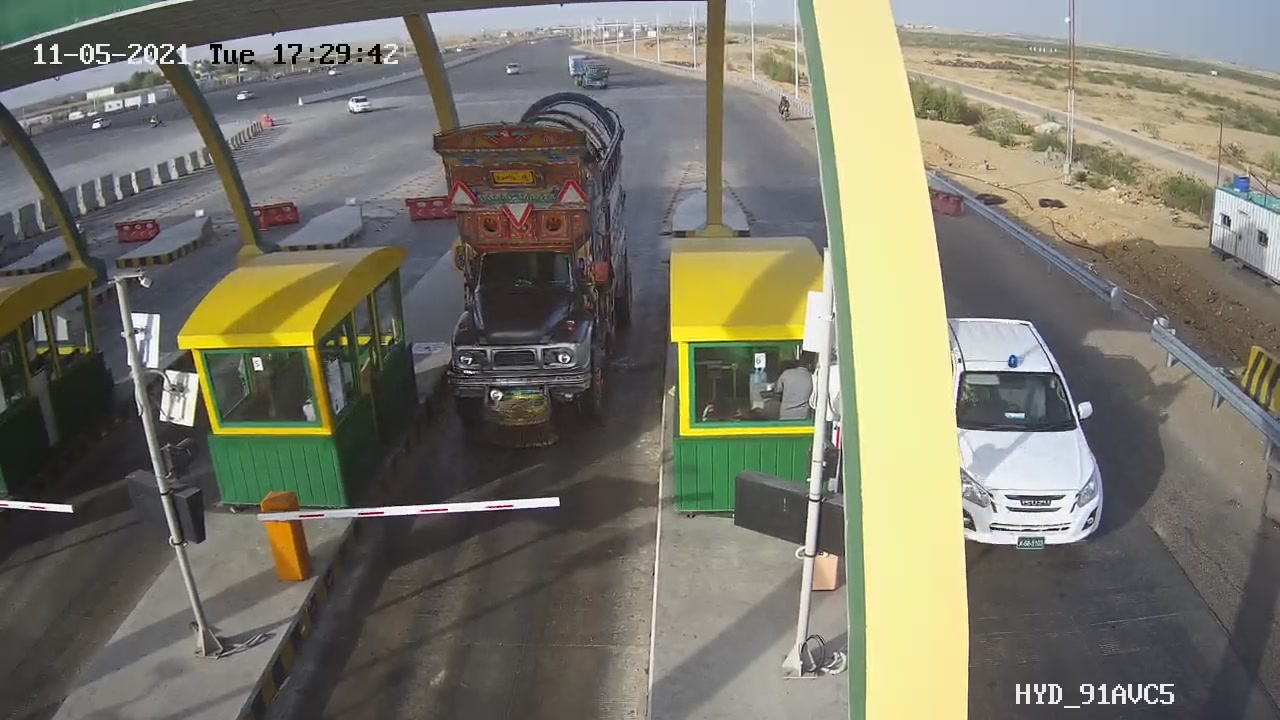F5: (403, 77, 664, 452)
